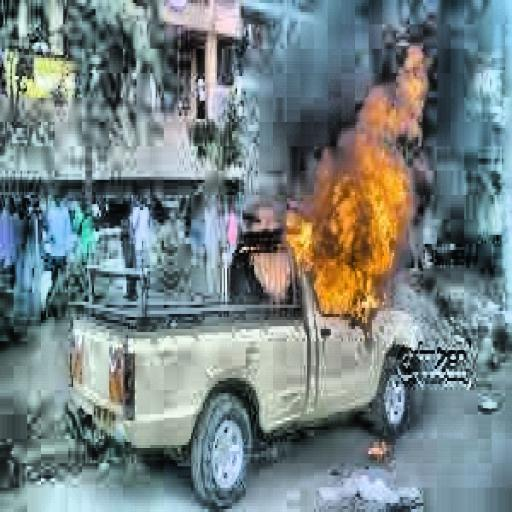fire: (286, 46, 434, 323)
